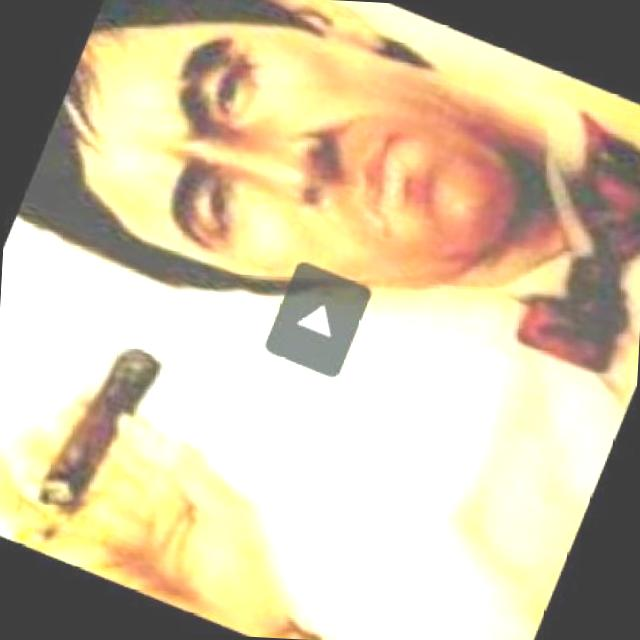cigarette: (6, 323, 172, 574)
